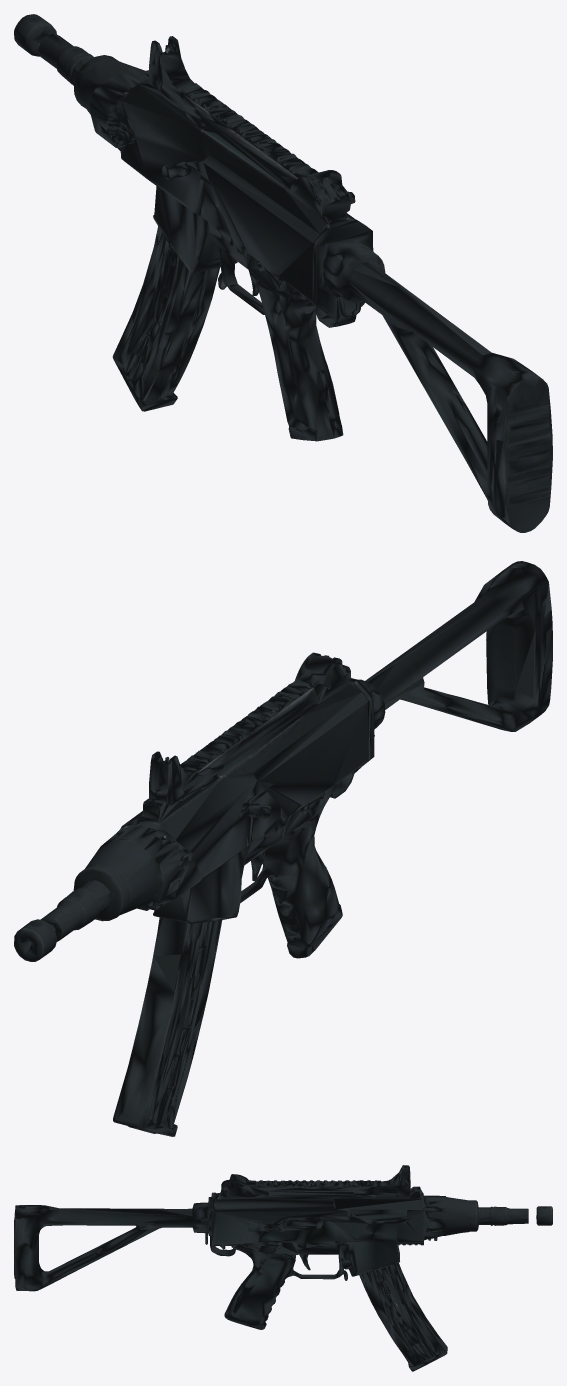
Rendered from smg_wren.glb.
The picture shows the model from 3 angles, top to bottom: view 1: azimuth 30°, elevation 25°; view 2: azimuth 150°, elevation 25°; view 3: azimuth 270°, elevation 25°; orthographic projection. The views are drawn at different scales.
Parts seen in each view (by area): view 1: smg_wren; view 2: smg_wren; view 3: smg_wren.
Boxes of the visible parts, x1,y1,x2,y2 form: smg_wren: [14, 14, 552, 532]; smg_wren: [14, 561, 552, 1136]; smg_wren: [14, 1165, 552, 1371].
Size of the model in its own units: 0.0719 by 0.2709 by 0.66.
1 material, 1 textured.
